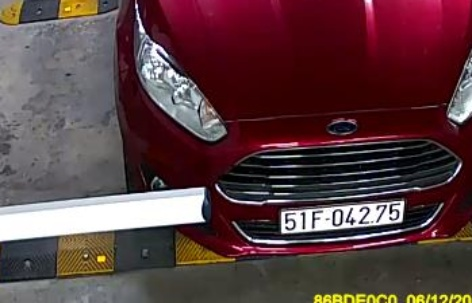plate: (274, 193, 414, 242)
